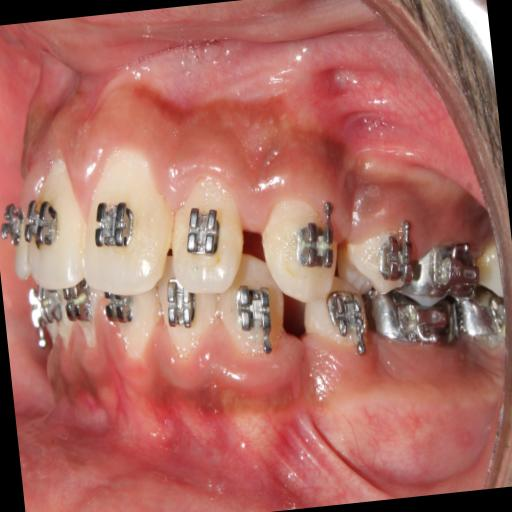correct_brace: (344, 200, 420, 300), (87, 188, 151, 269), (292, 201, 340, 286), (180, 193, 226, 266)
incorrect_brace: (163, 169, 249, 295), (370, 221, 416, 286)
